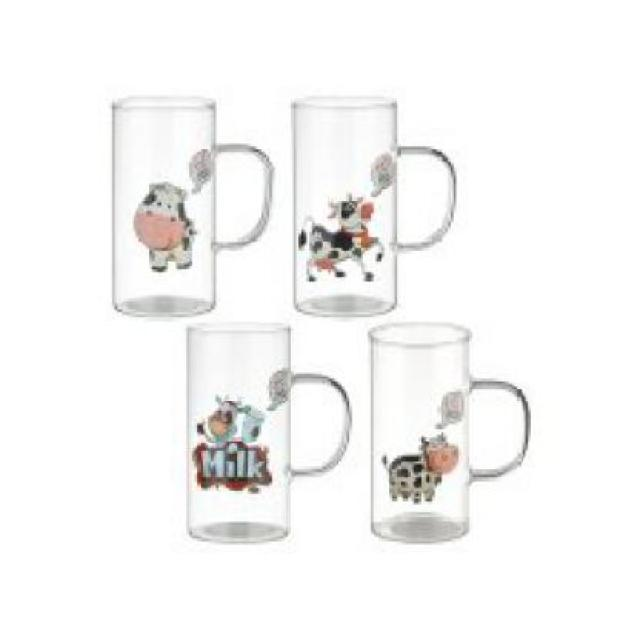taza: (172, 321, 356, 555), (96, 86, 276, 319), (364, 320, 534, 566), (284, 88, 462, 320)
